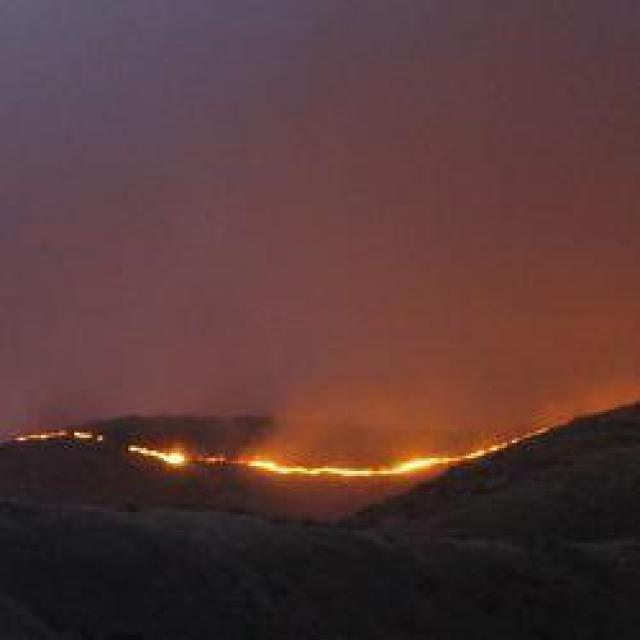Fire: (96, 428, 538, 510)
Smoke: (11, 0, 640, 391)
